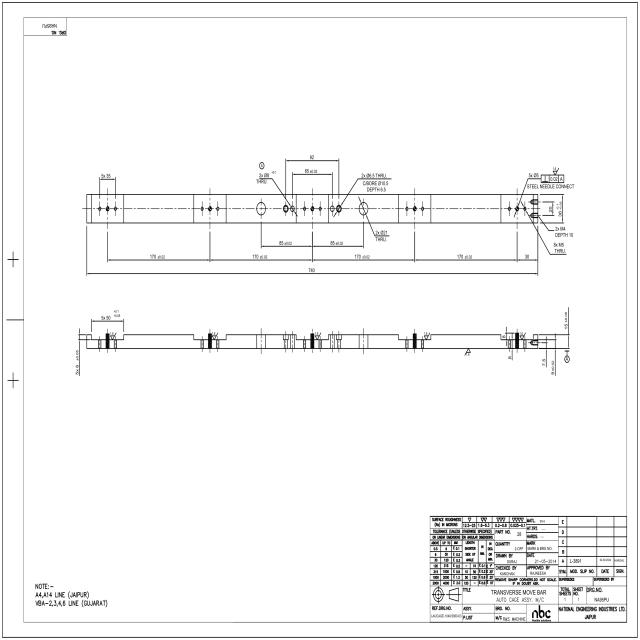dimension: (526, 172, 575, 190), (362, 180, 389, 193), (256, 170, 277, 186), (101, 308, 121, 321), (554, 226, 574, 238), (361, 172, 387, 180), (375, 229, 388, 243), (74, 349, 80, 376), (553, 242, 566, 254), (456, 253, 474, 260), (329, 239, 344, 247), (555, 201, 562, 218), (279, 239, 293, 247), (150, 253, 166, 260), (252, 253, 268, 260), (354, 253, 370, 260), (563, 311, 569, 329), (549, 360, 555, 376), (304, 168, 318, 174), (101, 172, 111, 179), (308, 267, 316, 274), (548, 205, 553, 214), (524, 253, 530, 260), (309, 154, 315, 160), (542, 358, 546, 366), (501, 333, 506, 339), (507, 355, 511, 360)
